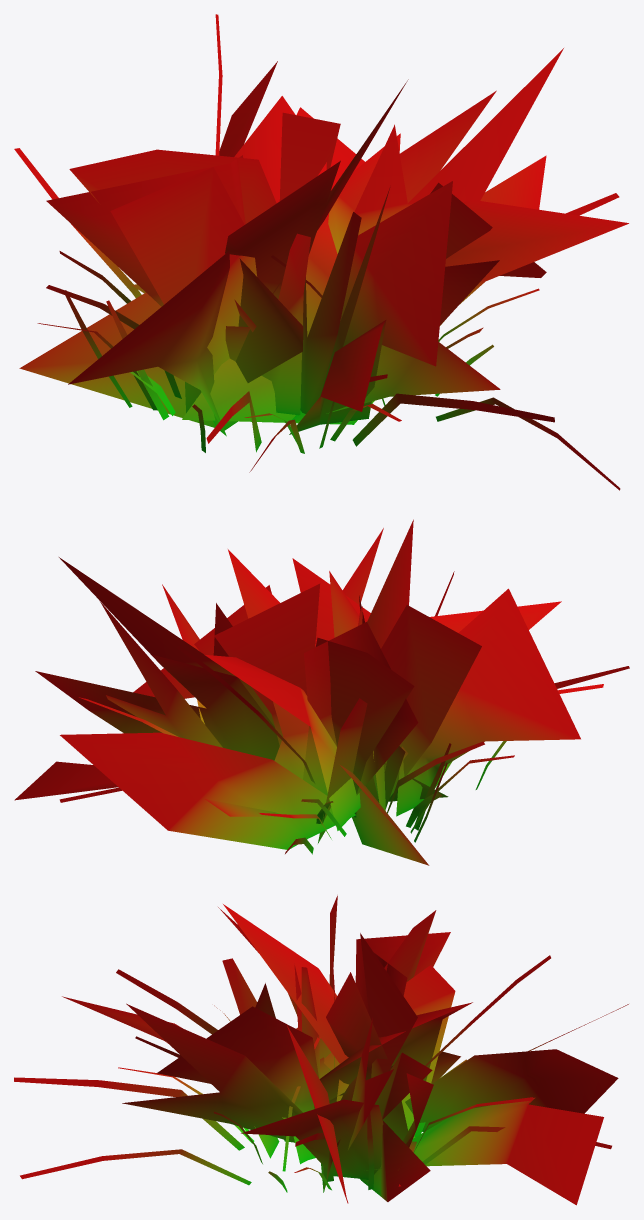
Rendered from Tundra Grass_LOD5_Var22_wk2oaeyqx.fbx.
3 renders of one model, top to bottom at view 1: azimuth 30°, elevation 25°; view 2: azimuth 150°, elevation 25°; view 3: azimuth 270°, elevation 25°, orthographic. The views are drawn at different scales.
Visible parts, largest first — view 1: _3bq3_Var22_LOD5; view 2: _3bq3_Var22_LOD5; view 3: _3bq3_Var22_LOD5.
Part boxes in pixels (<box>): _3bq3_Var22_LOD5: <box>14,14,628,490</box>; _3bq3_Var22_LOD5: <box>14,519,629,865</box>; _3bq3_Var22_LOD5: <box>14,895,628,1205</box>.
Bounding box in the file's own units: 31.69 × 17.3 × 37.04.
